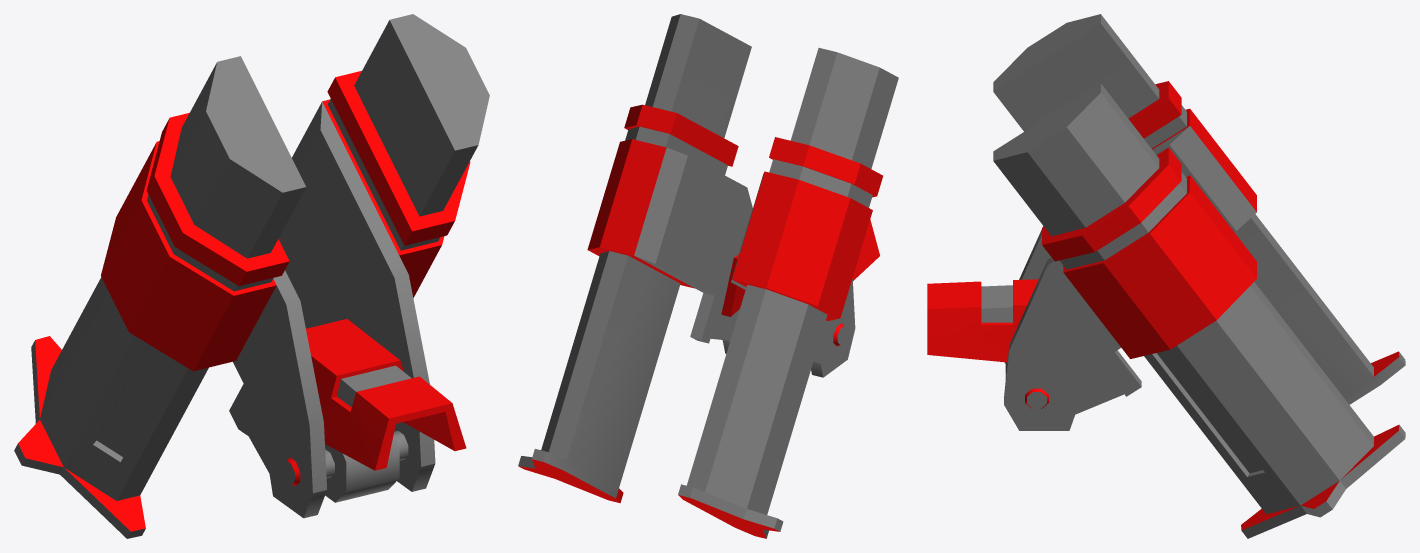
Rendered from AnotherMissileLauncher.obj.
The picture shows the model from 3 angles, left to right: view 1: azimuth 30°, elevation 25°; view 2: azimuth 150°, elevation 25°; view 3: azimuth 270°, elevation 25°; orthographic projection. The views are drawn at different scales.
Parts seen in each view (by area): view 1: Frame AnotherMissileLauncher TheCube, Frame AnotherMissileLauncher TheCube LauncherR, Frame AnotherMissileLauncher TheCube LauncherL, AnotherMissileLauncher TheCube Shield; view 2: Frame AnotherMissileLauncher TheCube, Frame AnotherMissileLauncher TheCube LauncherR, Frame AnotherMissileLauncher TheCube LauncherL, AnotherMissileLauncher TheCube Shield; view 3: Frame AnotherMissileLauncher TheCube, Frame AnotherMissileLauncher TheCube LauncherL, Frame AnotherMissileLauncher TheCube LauncherR, AnotherMissileLauncher TheCube Shield.
Part boxes in pixels (x1,y1,x2,y2): Frame AnotherMissileLauncher TheCube: (101,71,470,518); Frame AnotherMissileLauncher TheCube LauncherR: (14,56,305,538); Frame AnotherMissileLauncher TheCube LauncherL: (233,14,489,383); AnotherMissileLauncher TheCube Shield: (306,319,466,470); Frame AnotherMissileLauncher TheCube: (587,104,882,377); Frame AnotherMissileLauncher TheCube LauncherR: (678,48,898,538); Frame AnotherMissileLauncher TheCube LauncherL: (518,14,751,503); AnotherMissileLauncher TheCube Shield: (721,219,879,316); Frame AnotherMissileLauncher TheCube: (1004,81,1256,430); Frame AnotherMissileLauncher TheCube LauncherL: (993,83,1405,538); Frame AnotherMissileLauncher TheCube LauncherR: (993,14,1405,404); AnotherMissileLauncher TheCube Shield: (927,279,1038,362).
Bounding box in the file's own units: 7.52 × 12.18 × 11.84.
